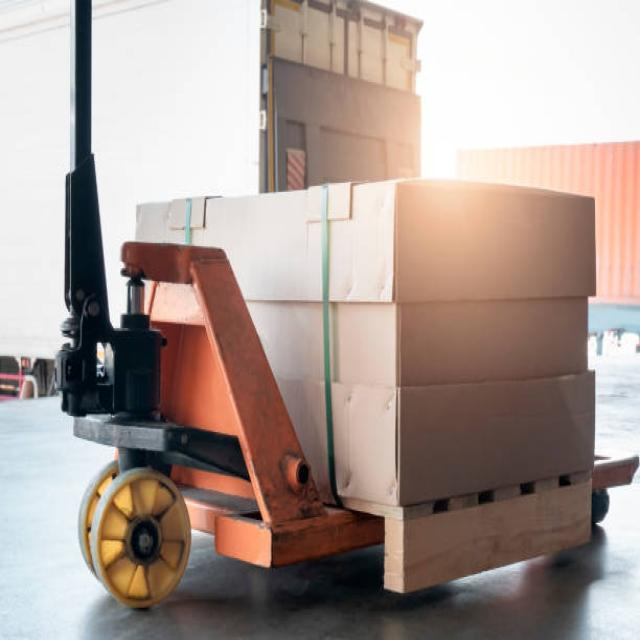Wooden-Pallets: (381, 469, 600, 599)
